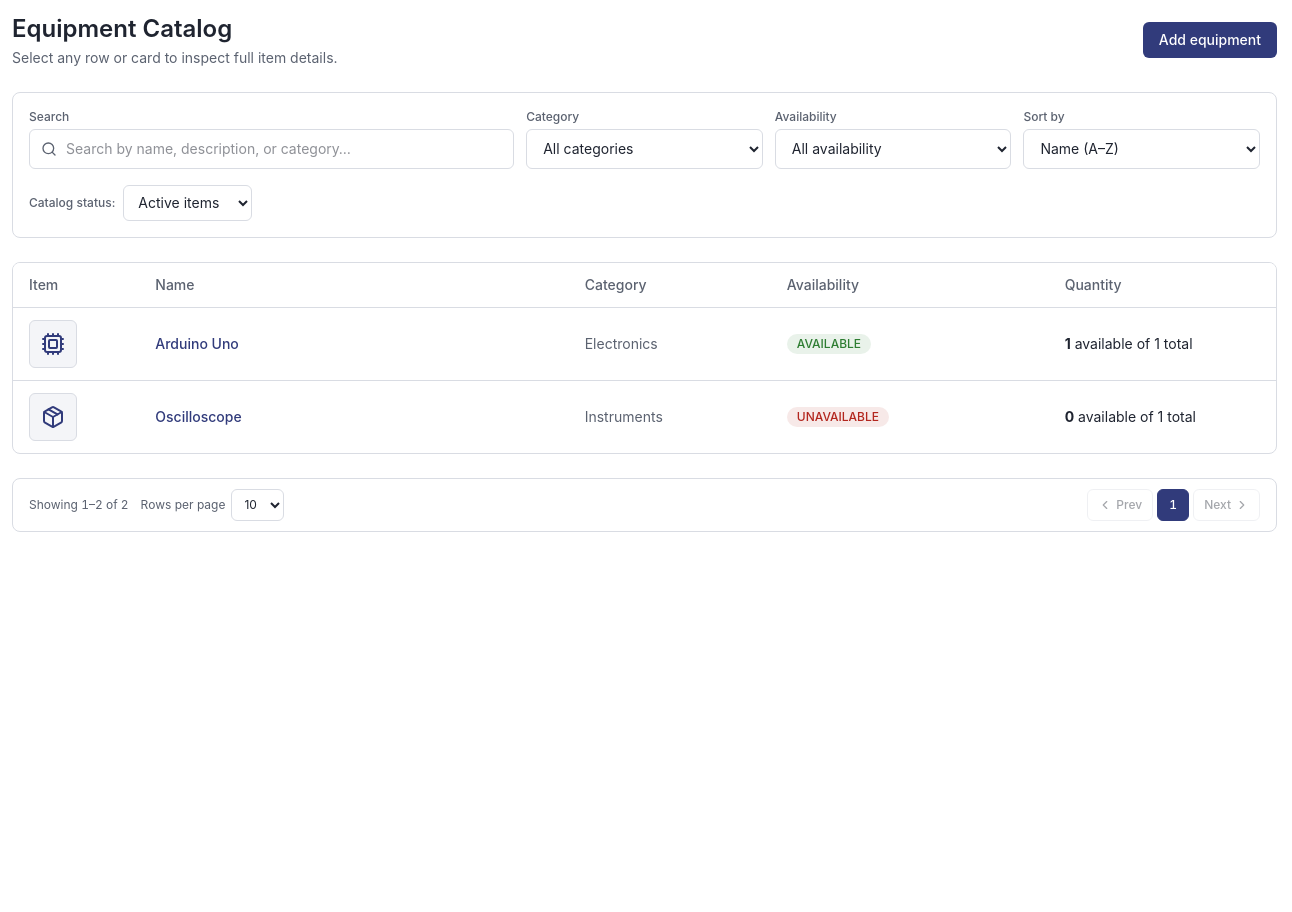
Scenario: CatalogPage (ui-spec §2 / f-02 §3 states) › enforces maxLength (120/60/1000) and live character counters on Custodian Add equipment form
Click the button "Add equipment". click: [1210, 40]
box: [1143,22,1277,58]
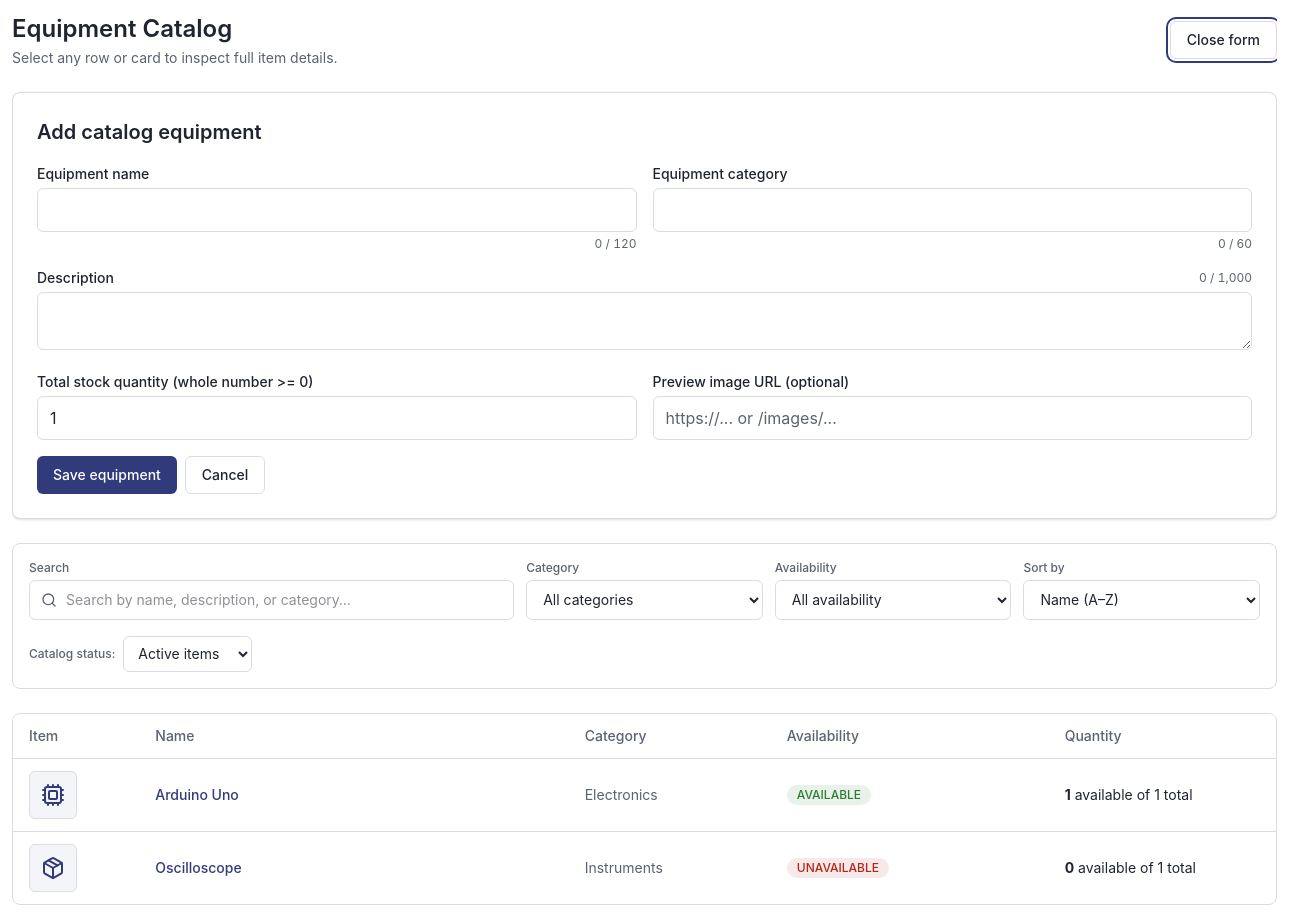
Expected: the text "0 / 120" is shown, [595,236,636,251]
Expected: the text "0 / 60" is shown, [1218,236,1252,251]
Expected: the text "0 / 1,000" is shown, [1199,270,1252,286]
Type "Fluke" into the field labelled "Equipment name". click: [337, 210]
box: [37,188,636,232]
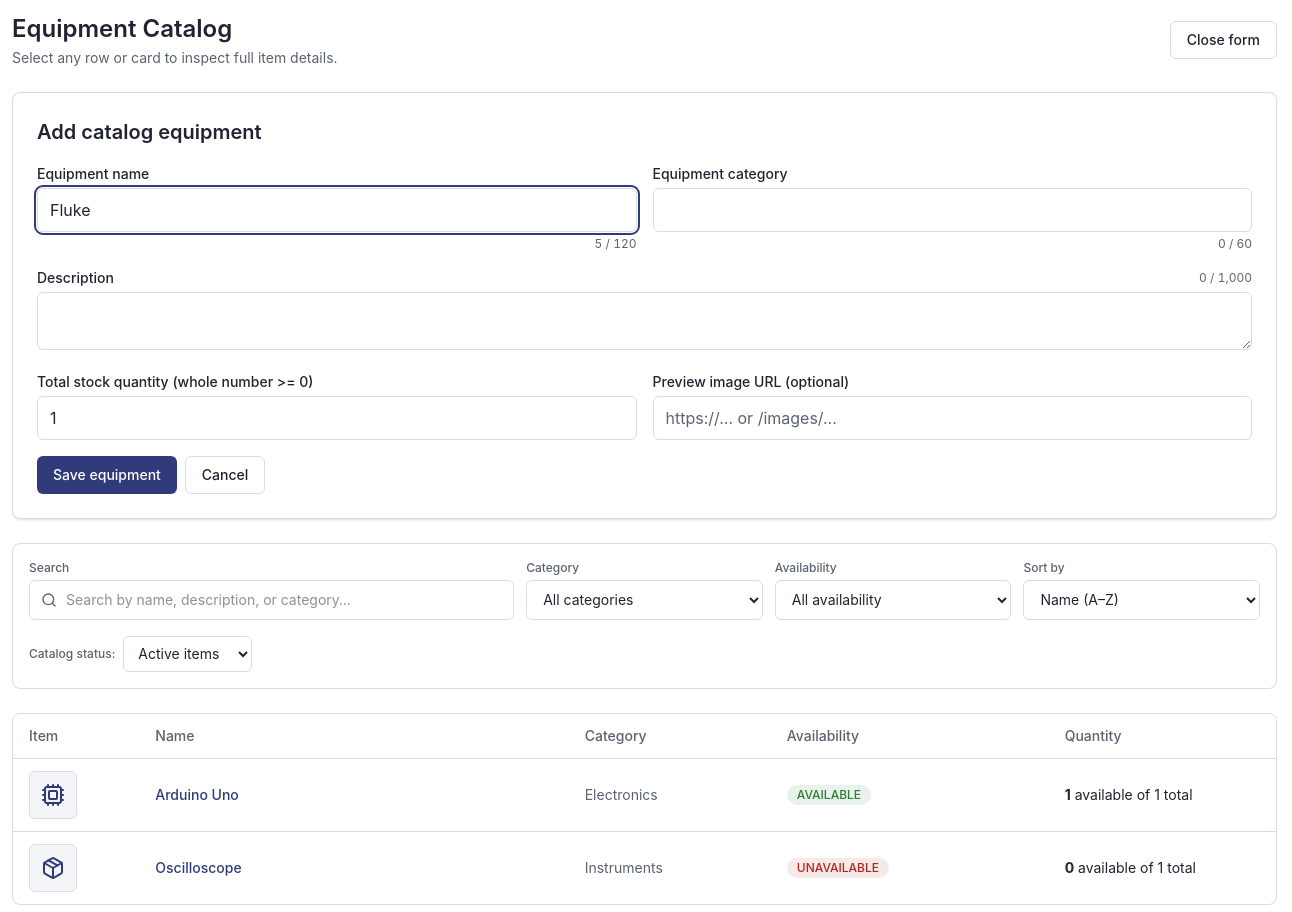
Expected: the text "5 / 120" is shown, [595,236,636,251]
